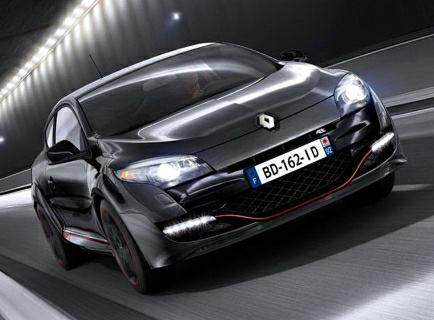雷诺-梅甘娜: (26, 37, 407, 300)
